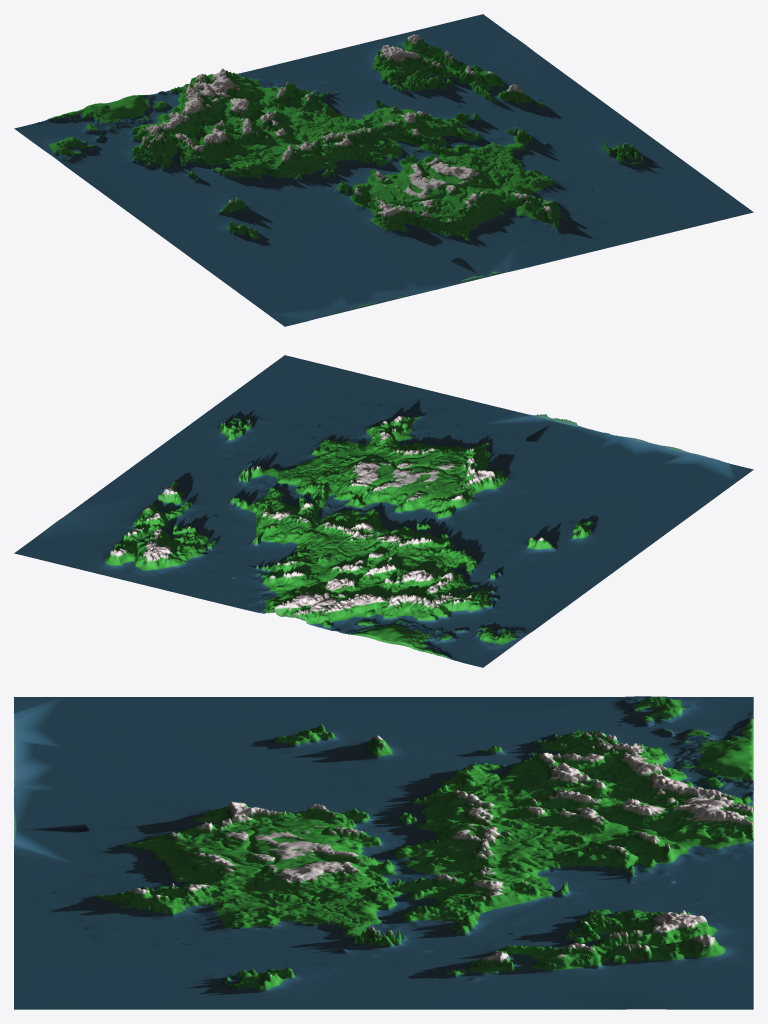
The model's file is testmap2.glb.
The picture shows the model from 3 angles, top to bottom: view 1: azimuth 30°, elevation 25°; view 2: azimuth 150°, elevation 25°; view 3: azimuth 270°, elevation 25°; orthographic projection. The views are drawn at different scales.
Visible parts, largest first — view 1: Plane; view 2: Plane; view 3: Plane.
Boxes of the visible parts, x1,y1,x2,y2 form: Plane: (14, 14, 753, 326); Plane: (14, 355, 753, 667); Plane: (14, 696, 753, 1009).
Size of the model in its own units: 2 by 0.0504 by 2.
1 material, 1 textured.
